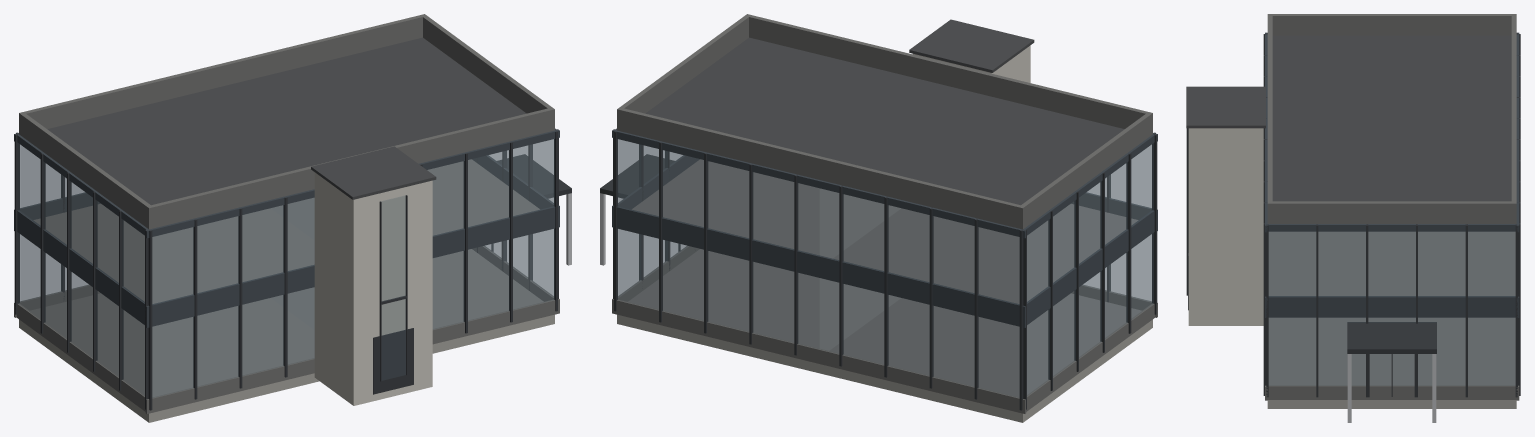
The model's file is annex.glb.
3 renders of one model, left to right at view 1: azimuth 30°, elevation 25°; view 2: azimuth 150°, elevation 25°; view 3: azimuth 270°, elevation 25°, orthographic. The views are drawn at different scales.
Parts seen in each view (by area): view 1: Roof_LOD0, Facade_North_LOD0, Core_LOD0, Facade_East_LOD0, Slab_F1_LOD0, Slab_F2_LOD0, Zone_F1-LabA_LOD0, Zone_F2-LabA_LOD0, Zone_F1-LabB_LOD0, Zone_F2-LabB_LOD0, Facade_West_LOD0, Facade_South_LOD0 (+1 smaller); view 2: Facade_South_LOD0, Roof_LOD0, Slab_F1_LOD0, Slab_F2_LOD0, Facade_East_LOD0, Zone_F1-LabA_LOD0, Zone_F2-LabA_LOD0, Zone_F1-LabB_LOD0, Zone_F2-LabB_LOD0, Facade_West_LOD0, Facade_North_LOD0, Core_LOD0 (+1 smaller); view 3: Roof_LOD0, Facade_West_LOD0, Core_LOD0, Slab_F1_LOD0, Slab_F2_LOD0, Zone_F2-LabB_LOD0, Zone_F1-LabB_LOD0, Entrance_LOD0, Facade_North_LOD0, Facade_South_LOD0.
Boxes of the visible parts, left/top/right/bottom form: Roof_LOD0: left=19, top=14, right=554, bottom=229; Facade_North_LOD0: left=145, top=129, right=559, bottom=413; Core_LOD0: left=311, top=146, right=436, bottom=405; Facade_East_LOD0: left=14, top=134, right=148, bottom=411; Slab_F1_LOD0: left=19, top=249, right=554, bottom=422; Slab_F2_LOD0: left=33, top=159, right=539, bottom=303; Zone_F1-LabA_LOD0: left=21, top=236, right=313, bottom=396; Zone_F2-LabA_LOD0: left=21, top=146, right=313, bottom=303; Zone_F1-LabB_LOD0: left=433, top=230, right=552, bottom=327; Zone_F2-LabB_LOD0: left=428, top=140, right=552, bottom=234; Facade_West_LOD0: left=472, top=128, right=558, bottom=301; Facade_South_LOD0: left=14, top=132, right=100, bottom=317; Facade_South_LOD0: left=612, top=129, right=1026, bottom=413; Roof_LOD0: left=617, top=14, right=1152, bottom=229; Slab_F1_LOD0: left=617, top=249, right=1152, bottom=422; Slab_F2_LOD0: left=632, top=159, right=1138, bottom=303; Facade_East_LOD0: left=1023, top=134, right=1157, bottom=411; Zone_F1-LabA_LOD0: left=822, top=236, right=1150, bottom=396; Zone_F2-LabA_LOD0: left=822, top=146, right=1150, bottom=303; Zone_F1-LabB_LOD0: left=619, top=230, right=820, bottom=347; Zone_F2-LabB_LOD0: left=619, top=140, right=820, bottom=254; Facade_West_LOD0: left=613, top=128, right=699, bottom=301; Facade_North_LOD0: left=1071, top=132, right=1157, bottom=317; Core_LOD0: left=909, top=19, right=1034, bottom=82; Roof_LOD0: left=1267, top=14, right=1516, bottom=223; Facade_West_LOD0: left=1266, top=224, right=1517, bottom=399; Core_LOD0: left=1186, top=86, right=1265, bottom=325; Slab_F1_LOD0: left=1267, top=317, right=1516, bottom=408; Slab_F2_LOD0: left=1268, top=231, right=1515, bottom=295; Zone_F2-LabB_LOD0: left=1269, top=232, right=1514, bottom=295; Zone_F1-LabB_LOD0: left=1269, top=318, right=1514, bottom=384; Entrance_LOD0: left=1347, top=322, right=1436, bottom=422; Facade_North_LOD0: left=1263, top=32, right=1267, bottom=400; Facade_South_LOD0: left=1516, top=32, right=1520, bottom=400.
Bounding box in the file's own units: 20.77 × 9.22 × 13.42.
